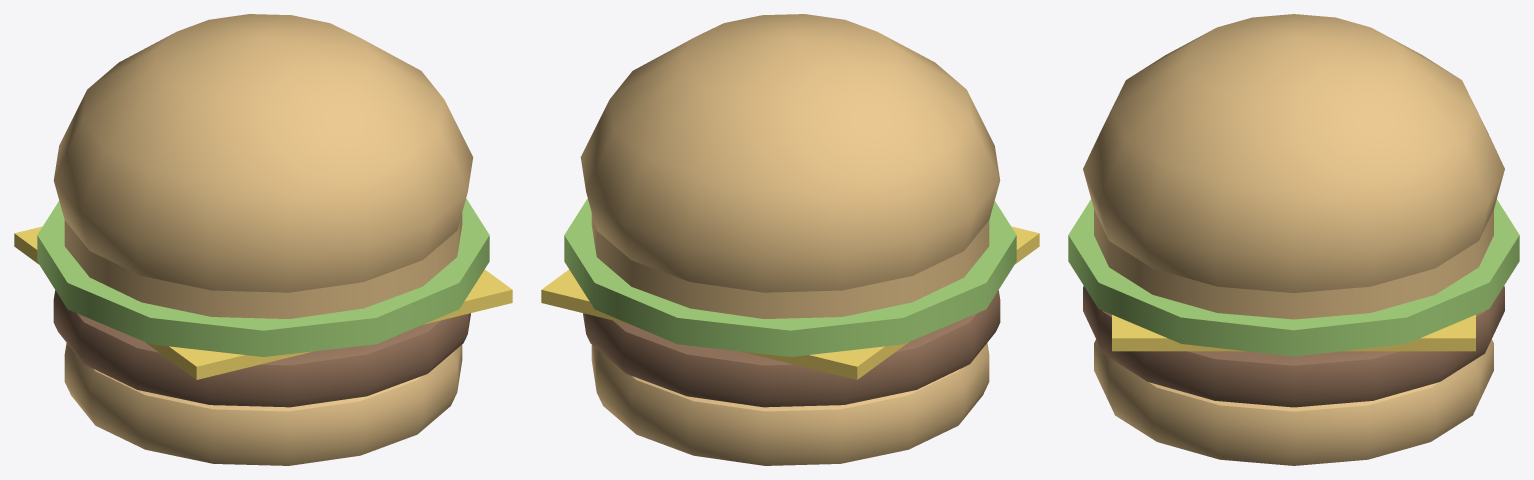
The model's file is burger.glb.
3 views of the same model, side by side, from view 1: azimuth 30°, elevation 25°; view 2: azimuth 150°, elevation 25°; view 3: azimuth 270°, elevation 25° (orthographic).
Visible parts, largest first — view 1: Burger; view 2: Burger; view 3: Burger.
Part boxes in pixels (x1,y1,x2,y2): Burger: (14, 14, 512, 465); Burger: (541, 14, 1039, 465); Burger: (1068, 14, 1519, 465).
Bounding box in the file's own units: 0.124 × 0.107 × 0.124.
